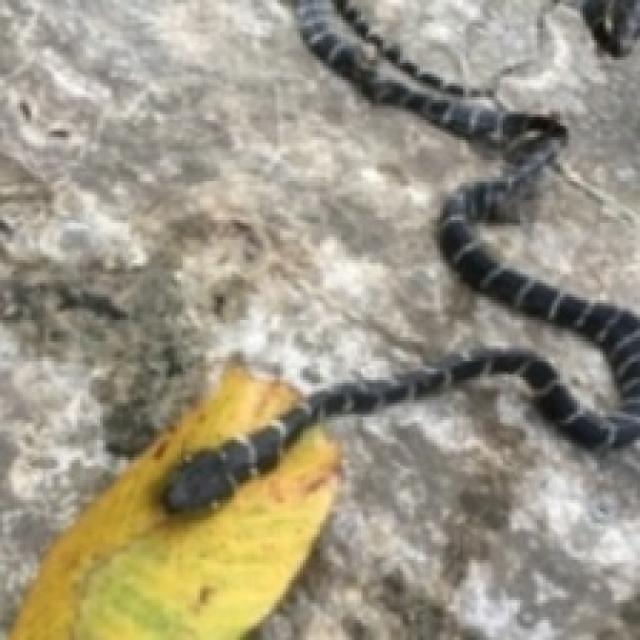mangrove cat snake: (163, 0, 637, 511)
